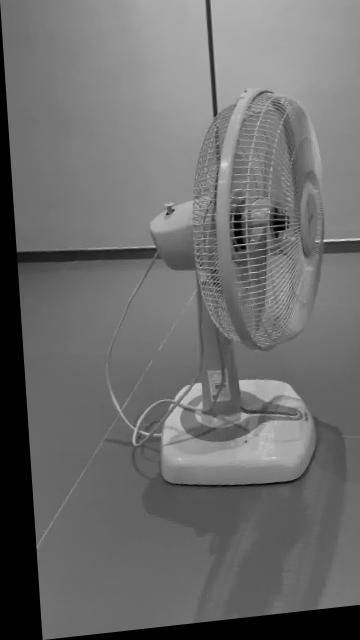Fan: (144, 95, 320, 493)
